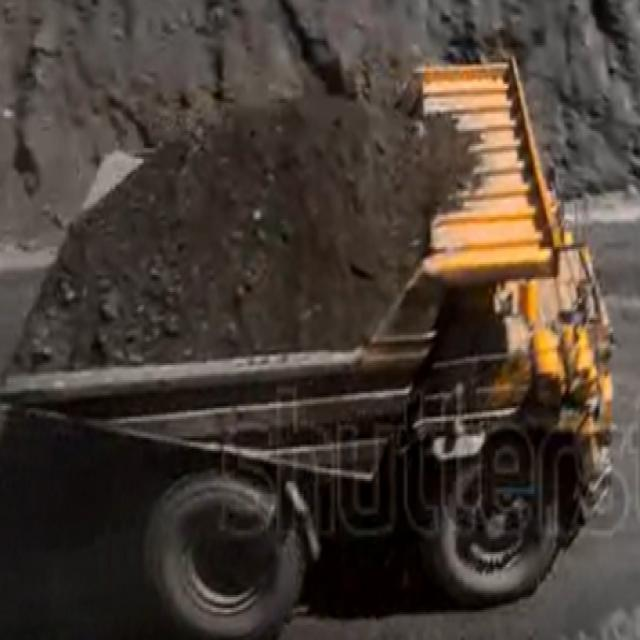uncovered: (38, 37, 566, 589)
